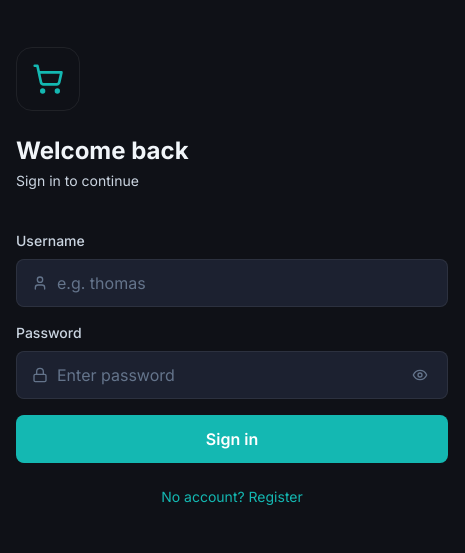
Test: LoginScreen › shows error when submitting empty form
Click the button "Sign in".
click(232, 439)  # box left=16, top=415, right=448, bottom=463
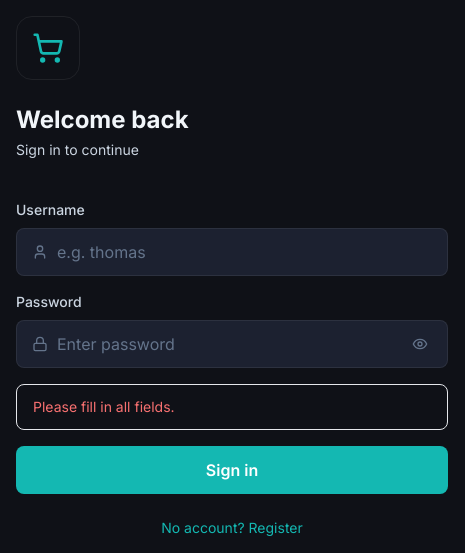
Expected: the text "Please fill in all fields." is shown, left=16, top=384, right=448, bottom=430
